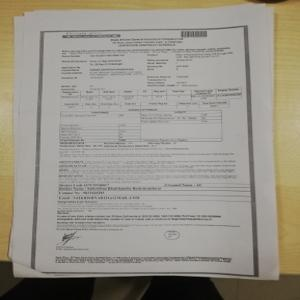table: (60, 109, 222, 142), (60, 88, 242, 100), (58, 99, 230, 111)
text: (62, 46, 237, 88), (57, 145, 237, 180), (108, 37, 186, 47)
